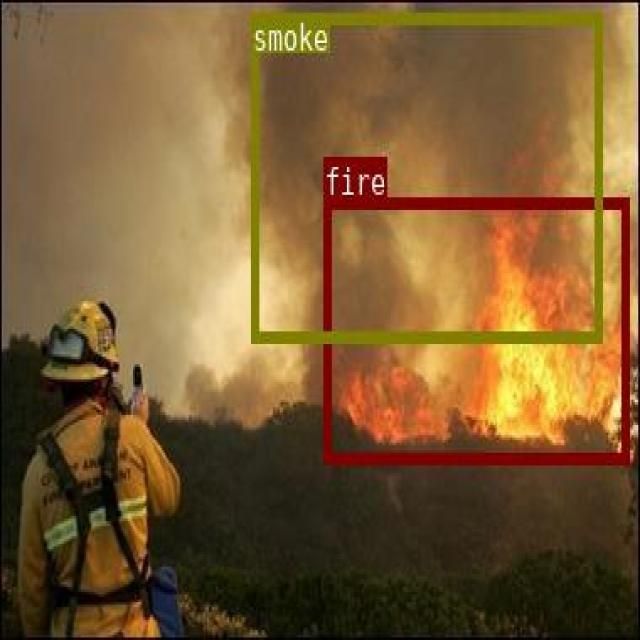fire: (322, 196, 627, 461)
smoke: (251, 12, 602, 340)
